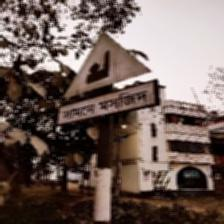Mosque in front: (58, 31, 156, 127)
